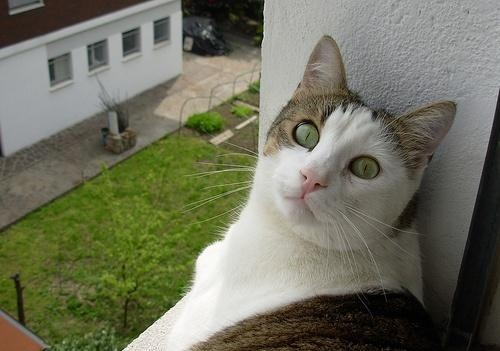cat: (164, 36, 458, 351)
